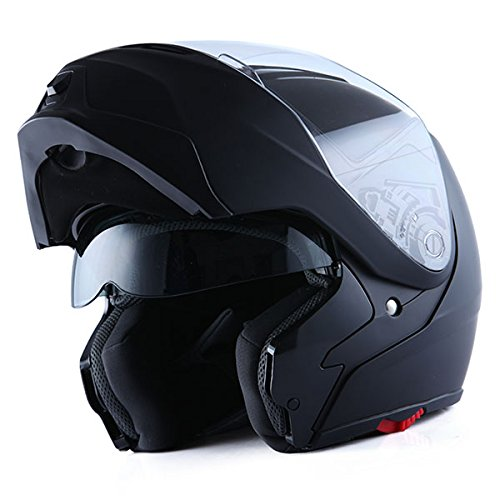with_helmet: (13, 21, 486, 464)
